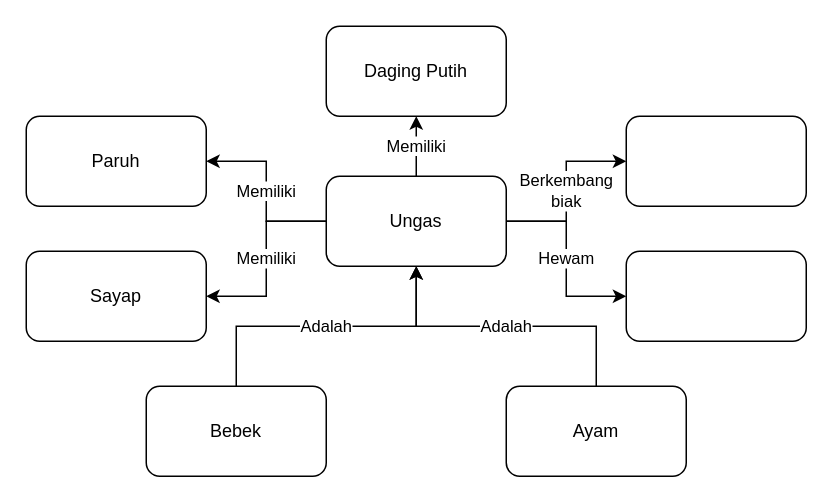
Some shapes in this 833 by 503 pixel diagram are drawn without their labels. Here are the shapes that lost their labels. From the top down, the centre of each, then its label:
At point (715, 160): "Bertelur".
At point (715, 295): "Omnivora".
